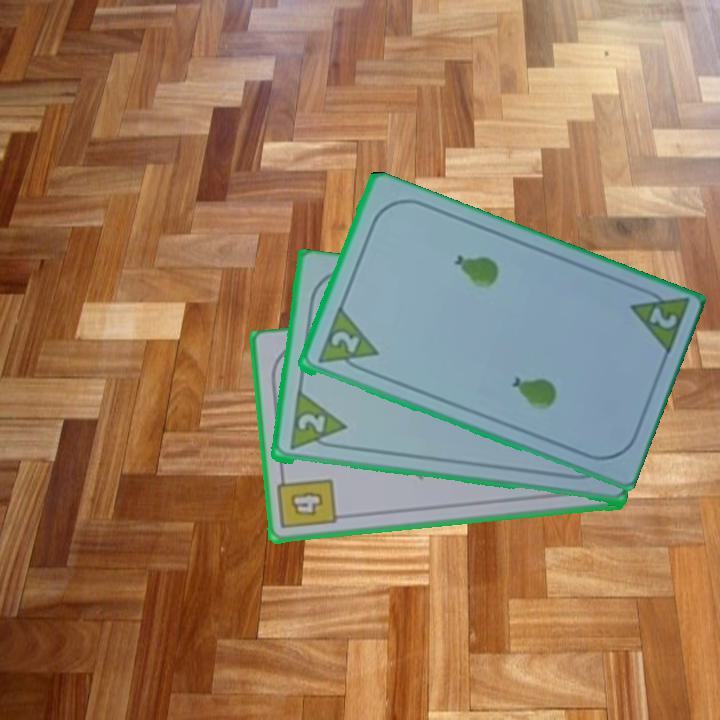2p: (625, 282, 690, 360), (313, 306, 380, 378), (294, 410, 328, 436)
4b: (274, 470, 339, 532)
